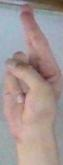R: (1, 0, 63, 137)
